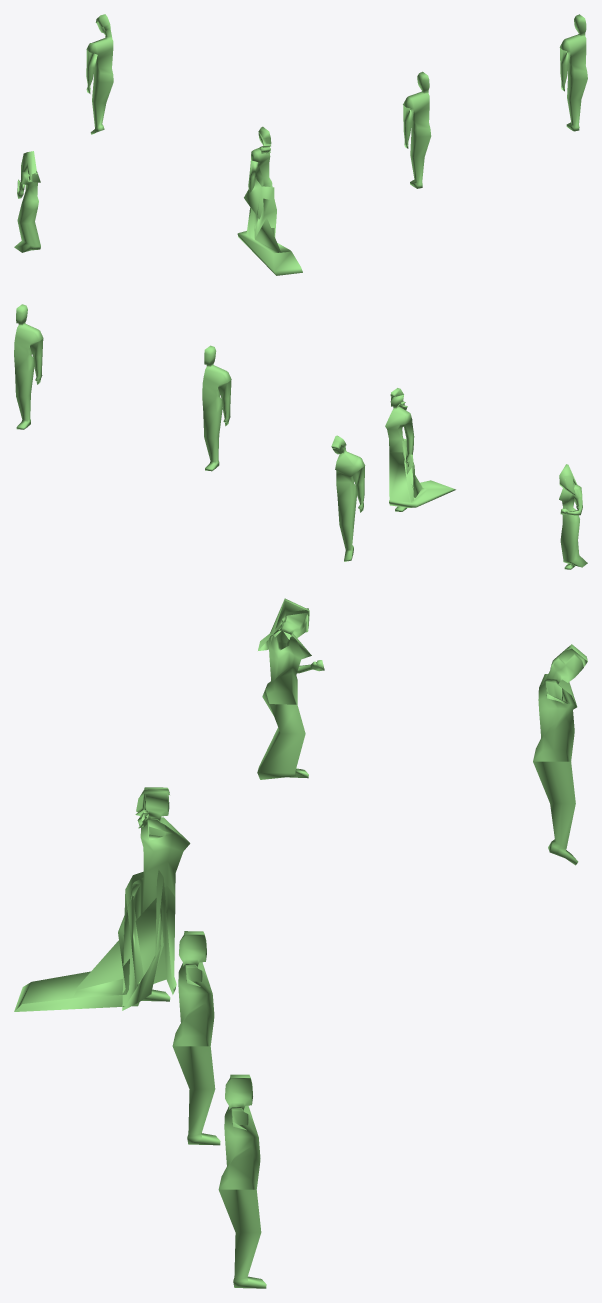
Rendered from pazar_models.glb.
3 views of the same model, one above another, from view 1: azimuth 30°, elevation 25°; view 2: azimuth 150°, elevation 25°; view 3: azimuth 270°, elevation 25° (orthographic). The views are drawn at different scales.
Parts seen in each view (by area): view 1: bride_model, hanging_model, original model, original model.001, widow_model; view 2: bride_model, original model, hanging_model, original model.001, widow_model; view 3: bride_model, hanging_model, original model.001, original model, widow_model.
Boxes of the visible parts, x1=… form: bride_model: x1=237, y1=126, x2=302, y2=275; hanging_model: x1=86, y1=14, x2=113, y2=134; original model: x1=403, y1=71, x2=431, y2=188; original model.001: x1=559, y1=14, x2=587, y2=131; widow_model: x1=14, y1=151, x2=40, y2=252; bride_model: x1=385, y1=388, x2=455, y2=511; original model: x1=202, y1=345, x2=231, y2=471; hanging_model: x1=331, y1=435, x2=365, y2=561; original model.001: x1=14, y1=304, x2=43, y2=429; widow_model: x1=559, y1=464, x2=587, y2=569; bride_model: x1=14, y1=787, x2=190, y2=1011; hanging_model: x1=533, y1=644, x2=587, y2=865; original model.001: x1=218, y1=1074, x2=266, y2=1288; original model: x1=172, y1=931, x2=220, y2=1145; widow_model: x1=257, y1=598, x2=324, y2=779.
Bounding box in the file's own units: 49.85 × 14.14 × 23.36.
